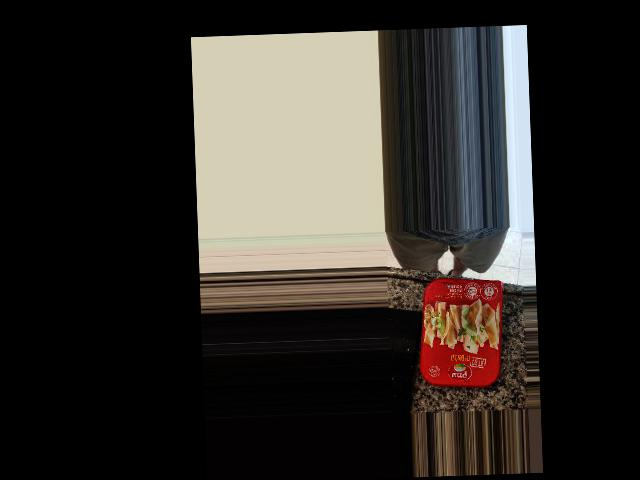cheese: (417, 274, 509, 387)
